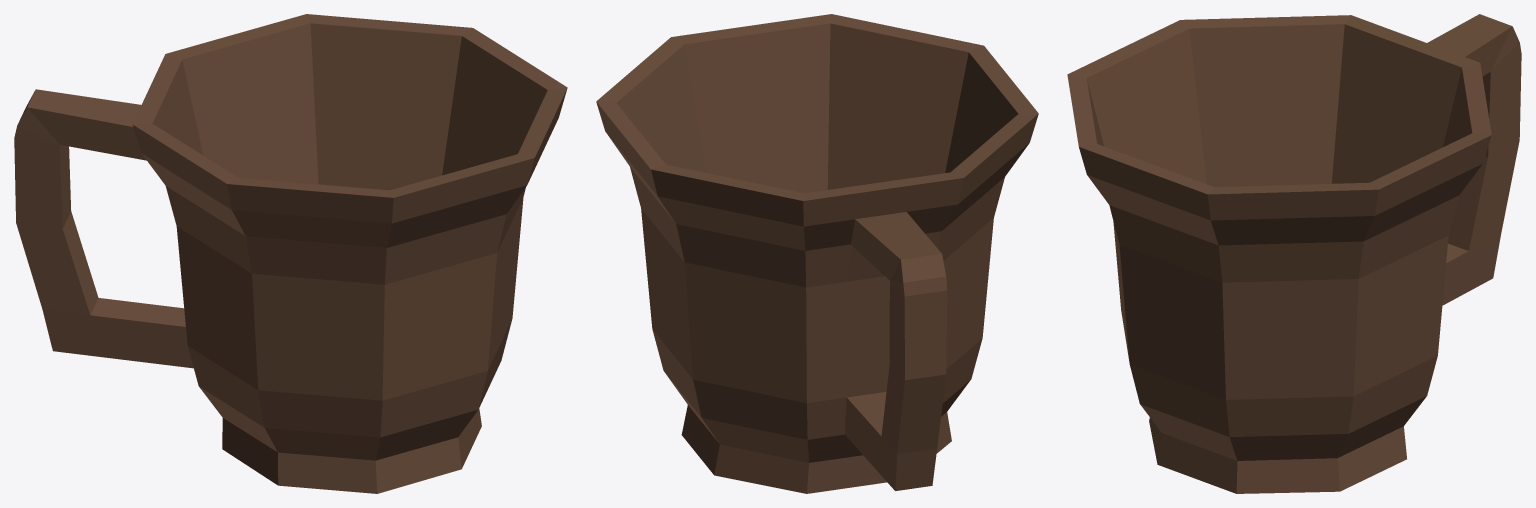
The model's file is low_taza_001.fbx.
The picture shows the model from 3 angles, left to right: view 1: azimuth 30°, elevation 25°; view 2: azimuth 150°, elevation 25°; view 3: azimuth 270°, elevation 25°; orthographic projection.
Visible parts, largest first — view 1: low_taza_001; view 2: low_taza_001; view 3: low_taza_001.
Part boxes in pixels (x1,y1,x2,y2): low_taza_001: (14,14,567,493); low_taza_001: (596,14,1038,493); low_taza_001: (1067,14,1521,493).
Bounding box in the file's own units: 29.44 × 22.49 × 27.66.
